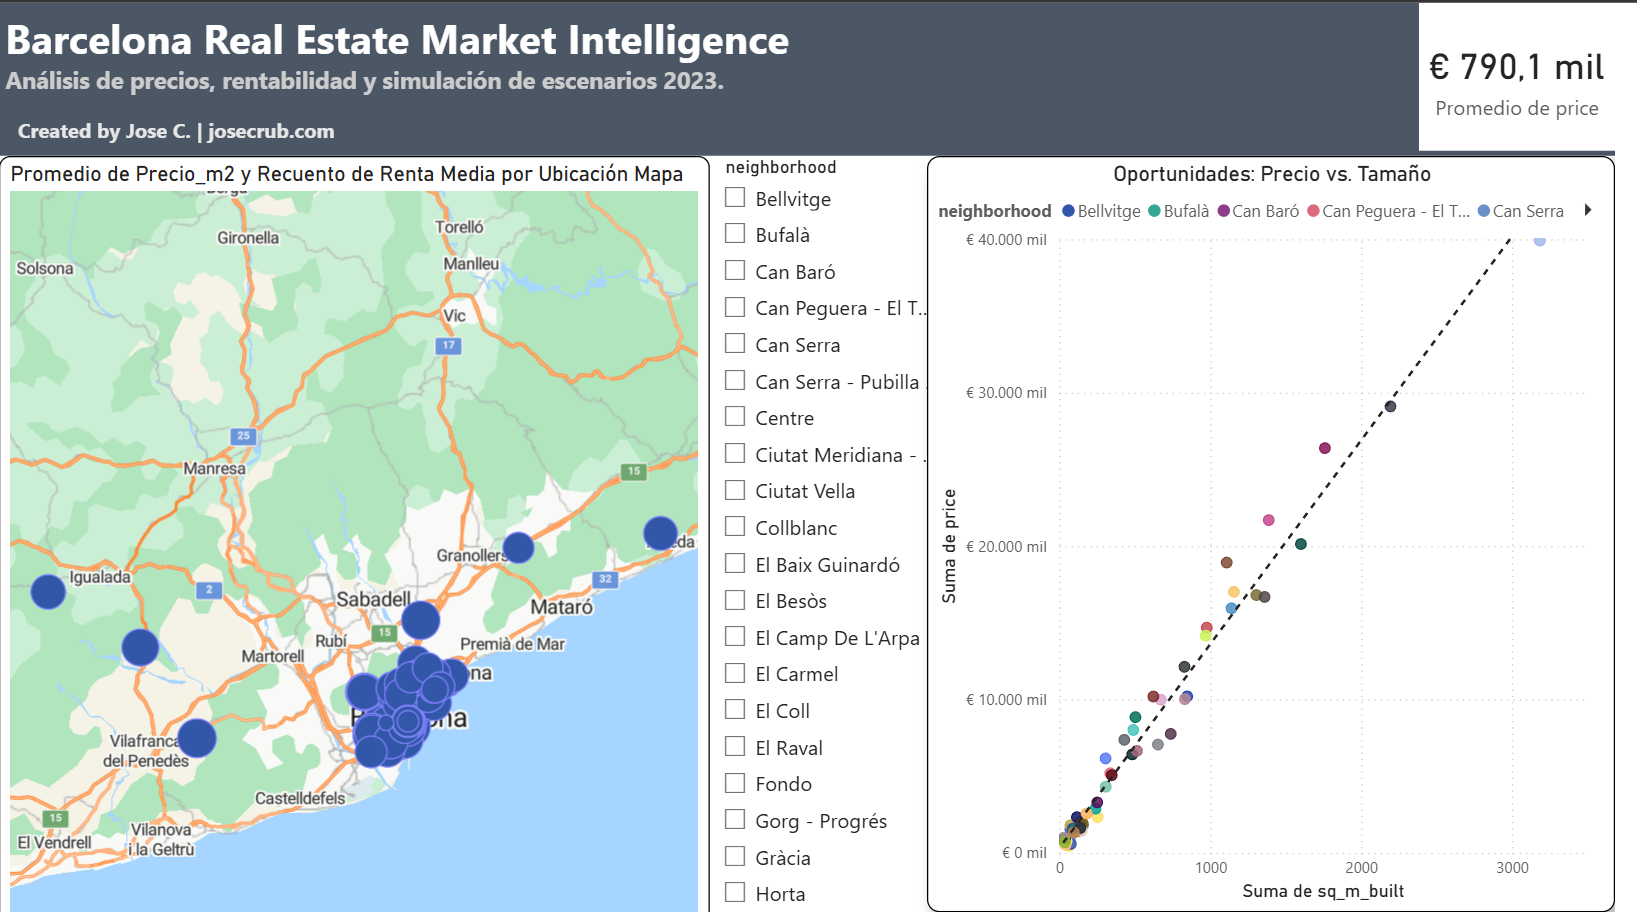

The page's visual inventory and layout, read from the dashboard file:
{"tool":"powerbi","page":{"name":"Mercado Actual","canvas":[1280,720],"ordinal":0},"visuals":[{"type":"slicer","fields":{"Values":["clean_data.neighborhood"]},"box":[562.7,116.4,189.7,604.1],"z":0},{"type":"shape","box":[0,0,1280,121.2],"z":1000},{"type":"scatterChart","title":"Oportunidades: Precio vs. Tamaño","fields":{"X":["Sum(clean_data.sq_m_built)"],"Y":["Sum(clean_data.price)"],"Series":["clean_data.neighborhood"]},"box":[734.8,121.2,545.2,599.4],"z":2000},{"type":"card","fields":{"Values":["Avg(clean_data.price)"]},"box":[1124.4,0,155.6,116.7],"z":4000},{"type":"textbox","box":[0,0,640,117.1],"z":7000},{"type":"textbox","box":[0,84.4,281.1,73.3],"z":8000},{"type":"azureMap","fields":{"Category":["clean_data.Ubicación Mapa"],"Size":["Avg(clean_data.Precio_m2)"]},"box":[0,121.2,562.7,752.4],"z":9000}]}

Visuals, with their boxes in screenshot pixels (x1, y1, x2, y2), scaled from the page's 1280x720 canvas onto the 1637x913 screenshot:
slicer - clean_data.neighborhood: BBox(720, 148, 962, 912)
shape: BBox(0, 0, 1636, 154)
"Oportunidades: Precio vs. Tamaño" scatterChart: BBox(940, 154, 1636, 912)
card - Avg(clean_data.price): BBox(1438, 0, 1636, 148)
textbox: BBox(0, 0, 818, 148)
textbox: BBox(0, 107, 360, 200)
azureMap - clean_data.Ubicación Mapa x Avg(clean_data.Precio_m2): BBox(0, 154, 720, 912)
